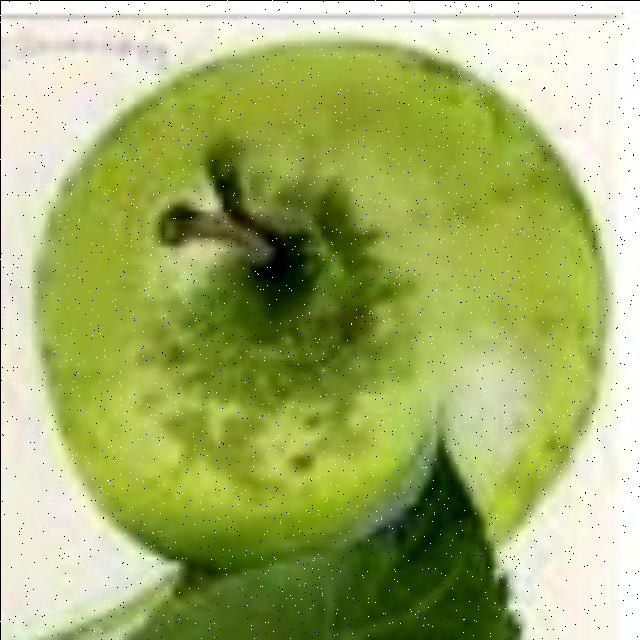BLOTCH: (37, 59, 619, 575)
